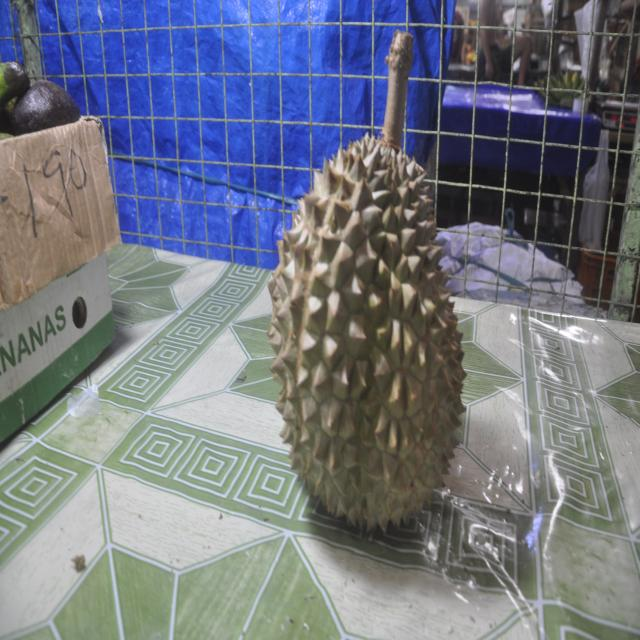mature: (267, 30, 466, 531)
